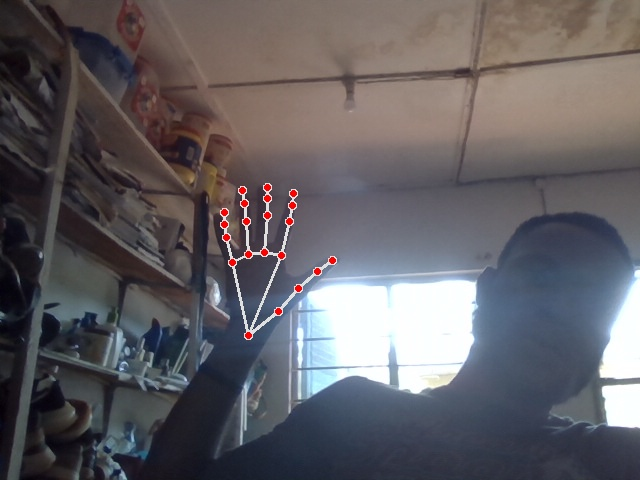no: (214, 181, 340, 348)
